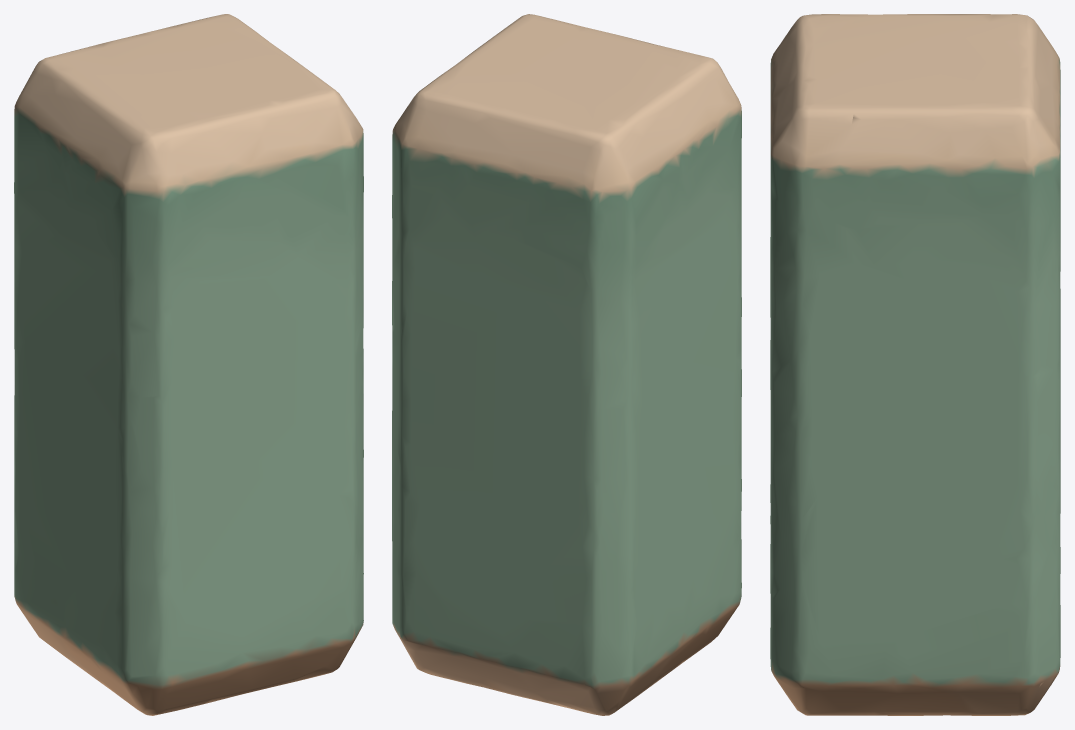
Rendered from gen3d-eraser-lod0.glb.
3 renders of one model, left to right at view 1: azimuth 30°, elevation 25°; view 2: azimuth 150°, elevation 25°; view 3: azimuth 270°, elevation 25°, orthographic. The views are drawn at different scales.
Visible parts, largest first — view 1: part_0; view 2: part_0; view 3: part_0.
Boxes of the visible parts, bbox=[...] form: part_0: bbox=[14, 14, 363, 715]; part_0: bbox=[392, 14, 741, 715]; part_0: bbox=[770, 14, 1060, 715].
Bounding box in the file's own units: 0.4326 × 1 × 0.4332.
